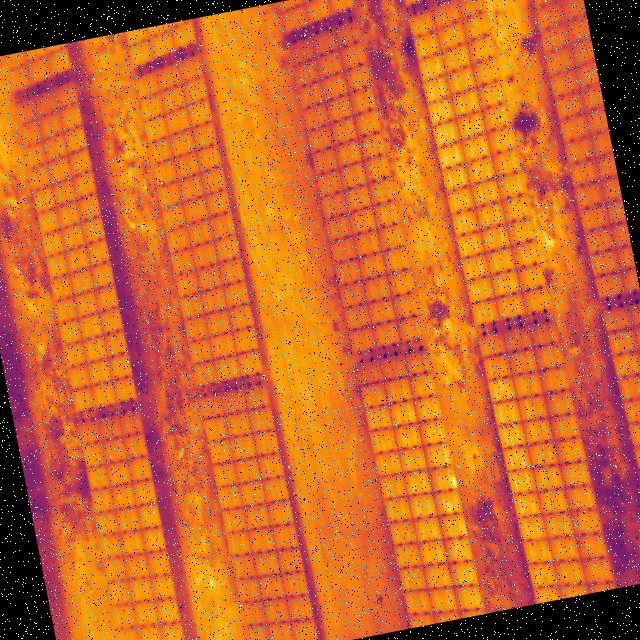Hotspot: (449, 474, 459, 490)
